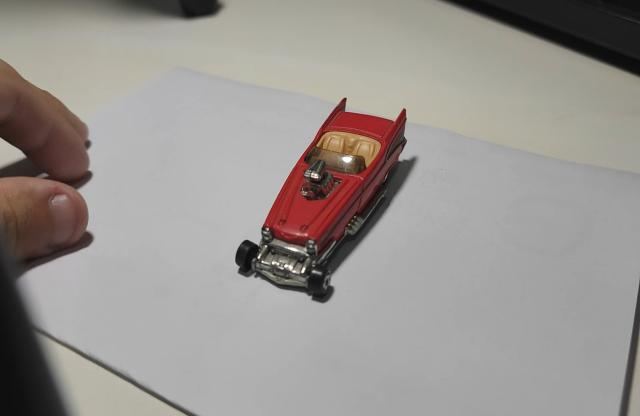03_V8: (234, 99, 414, 304)
